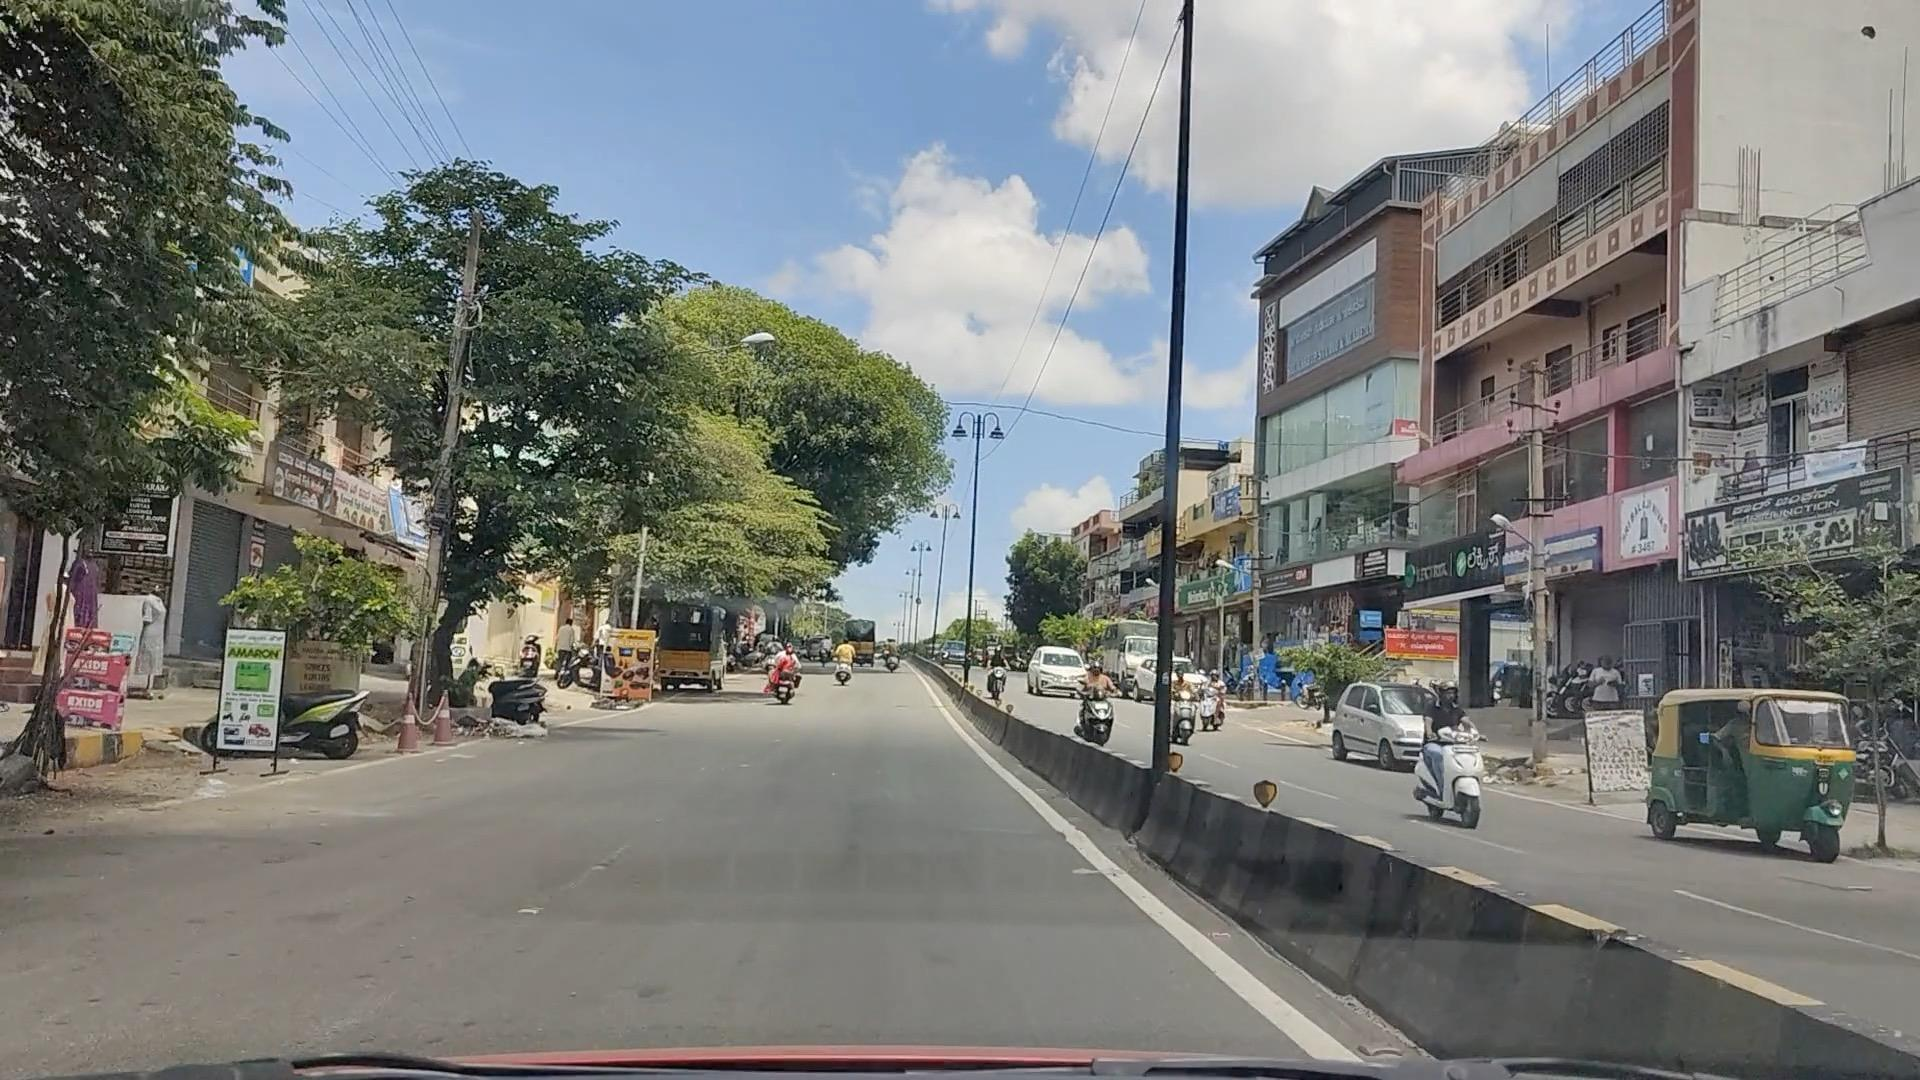HMV: (661, 577, 730, 700)
LMV: (1063, 650, 1127, 770), (770, 640, 810, 701)
